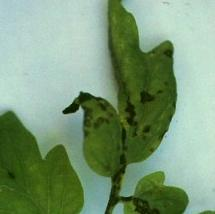Tomato leaf bacterial spot: (66, 0, 170, 182), (0, 91, 83, 214)
